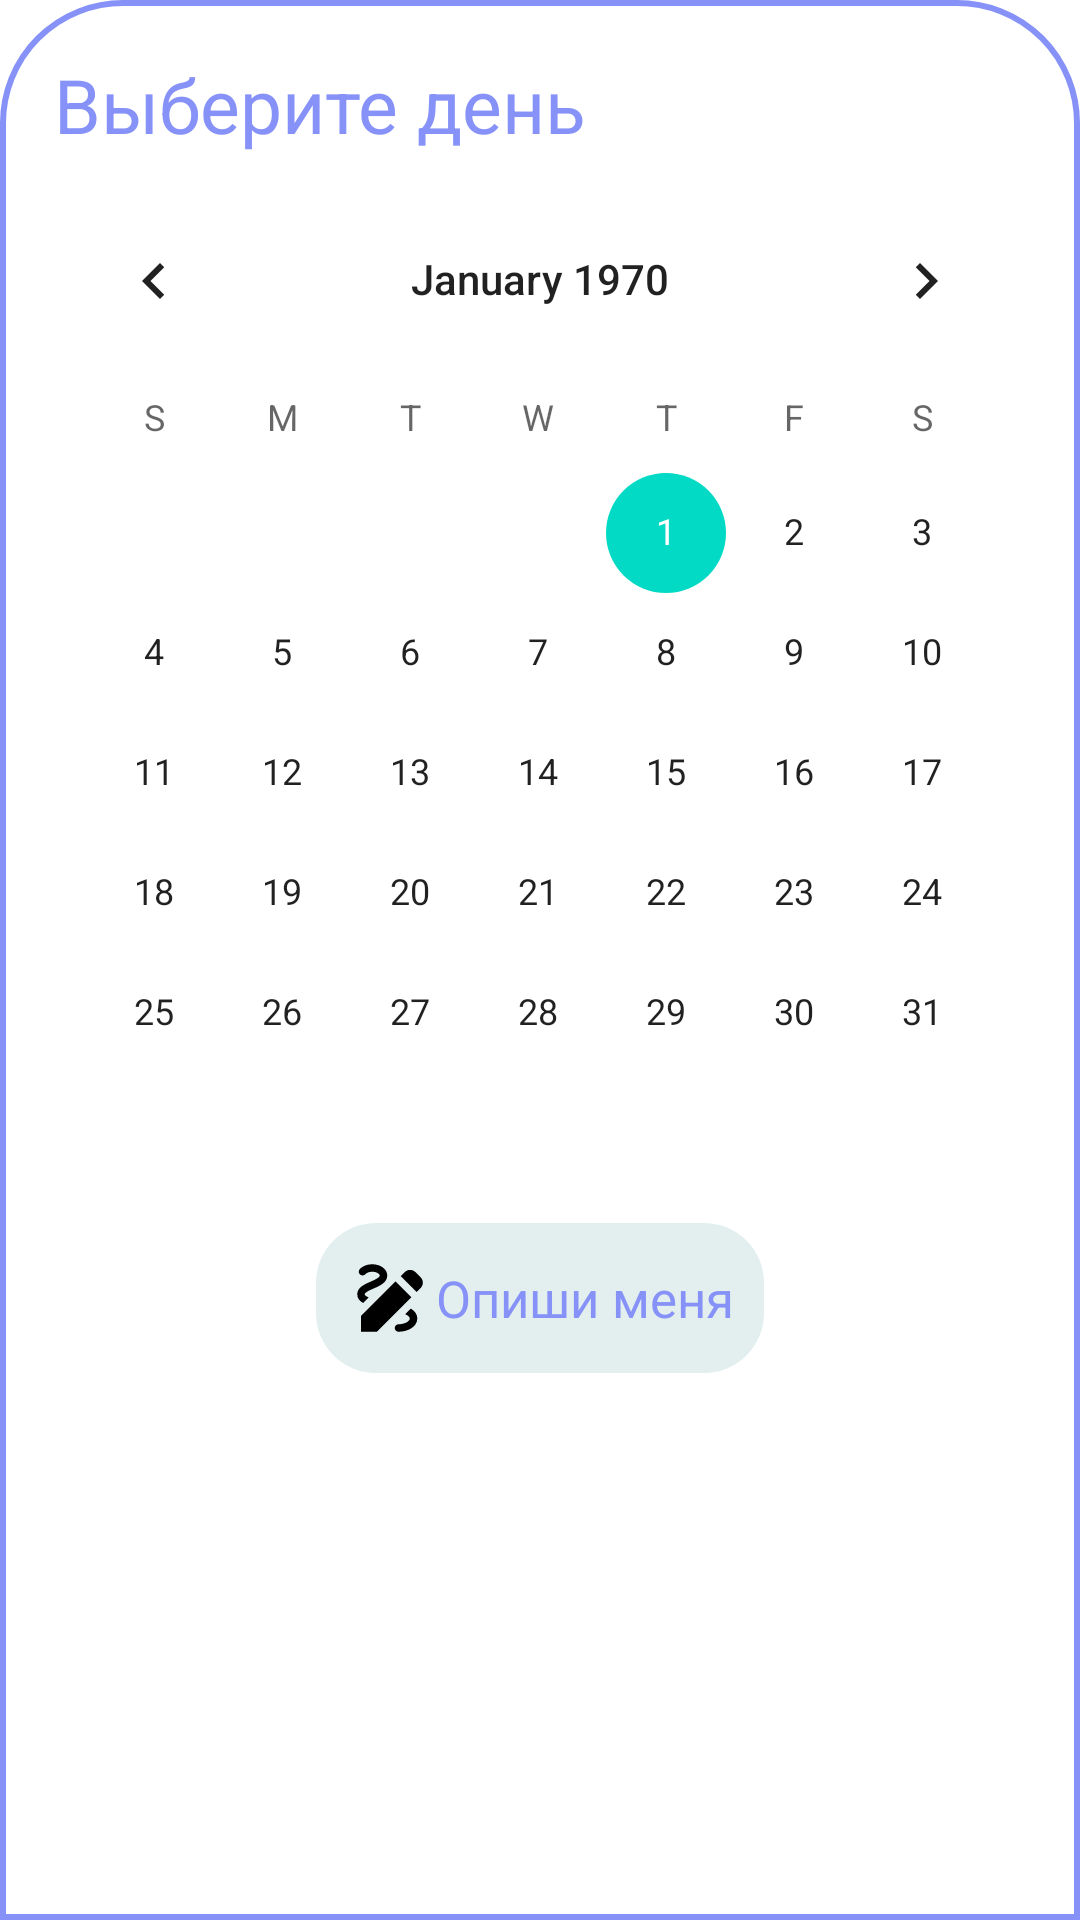

Icons on this 1080x1920 Android screen, each with its box as {"x1": x1, "y1": y1, "x2": x2, "y2": y2}:
draw: {"x1": 357, "y1": 1264, "x2": 423, "y2": 1332}
